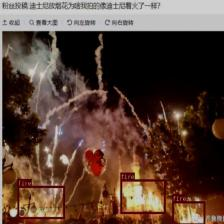fire: (120, 179, 165, 214), (17, 186, 64, 219), (172, 200, 205, 224)
